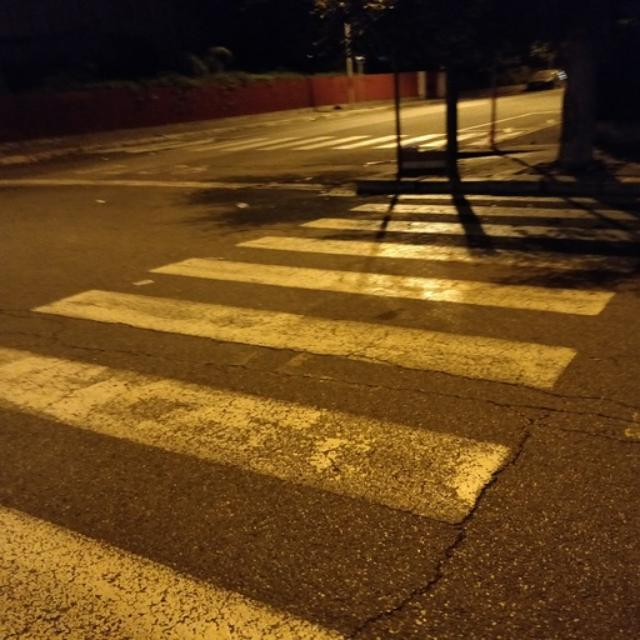sidewalk: (0, 187, 636, 640)
